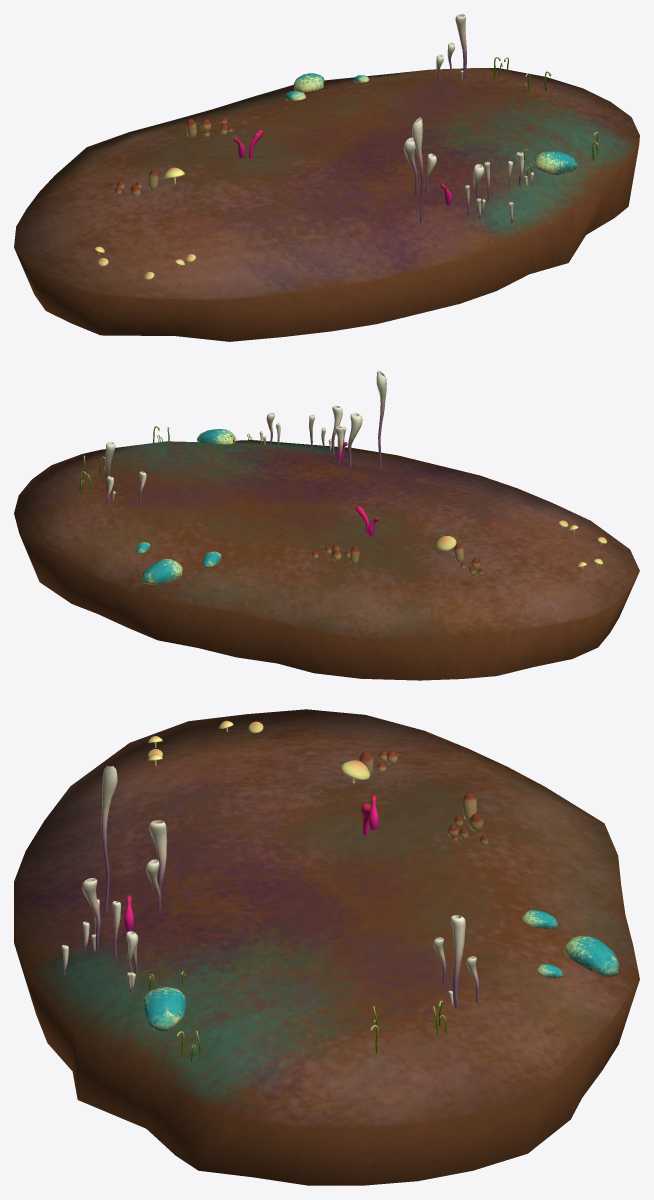
File: Cartoon Seaweed_13-1.fbx
The picture shows the model from 3 angles, top to bottom: view 1: azimuth 30°, elevation 25°; view 2: azimuth 150°, elevation 25°; view 3: azimuth 270°, elevation 25°; orthographic projection. The views are drawn at different scales.
Visible parts, largest first — view 1: Cartoon Seaweed_13.1; view 2: Cartoon Seaweed_13.1; view 3: Cartoon Seaweed_13.1.
Part boxes in pixels (bbox=[...]): Cartoon Seaweed_13.1: bbox=[14, 14, 639, 341]; Cartoon Seaweed_13.1: bbox=[14, 370, 639, 680]; Cartoon Seaweed_13.1: bbox=[14, 709, 639, 1185].
Size of the model in its own units: 214 by 57.35 by 136.
1 material, 1 textured.
